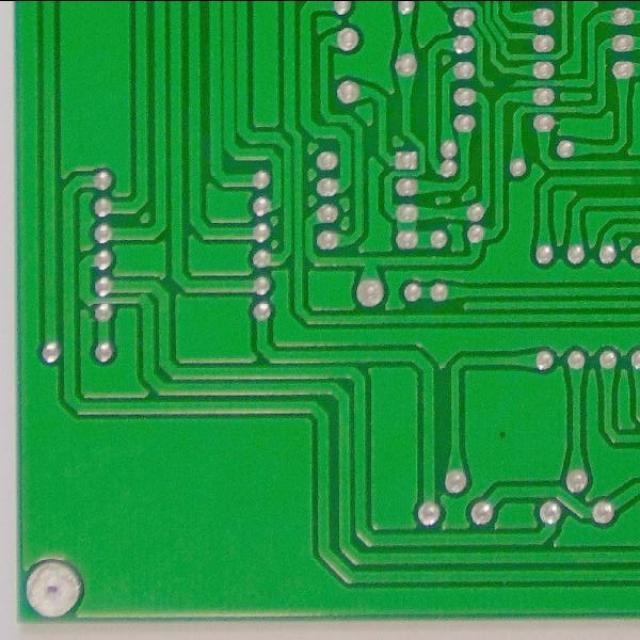Open_Circuit: (486, 74, 523, 92)
